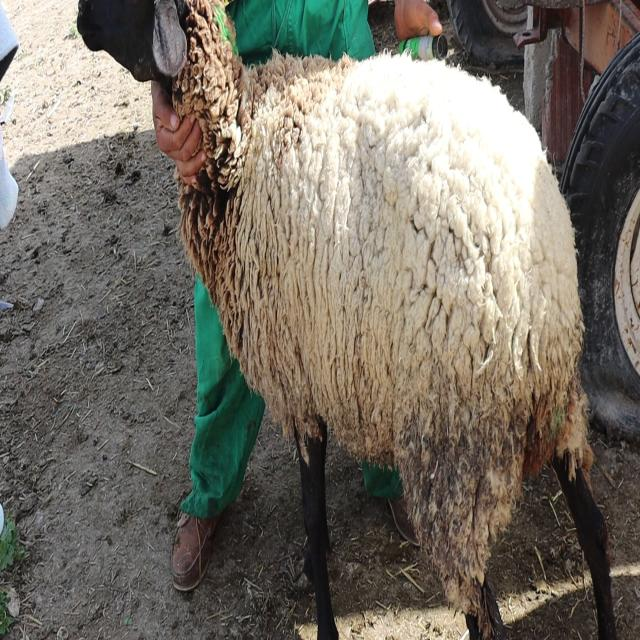Score_5: (77, 0, 616, 639)
